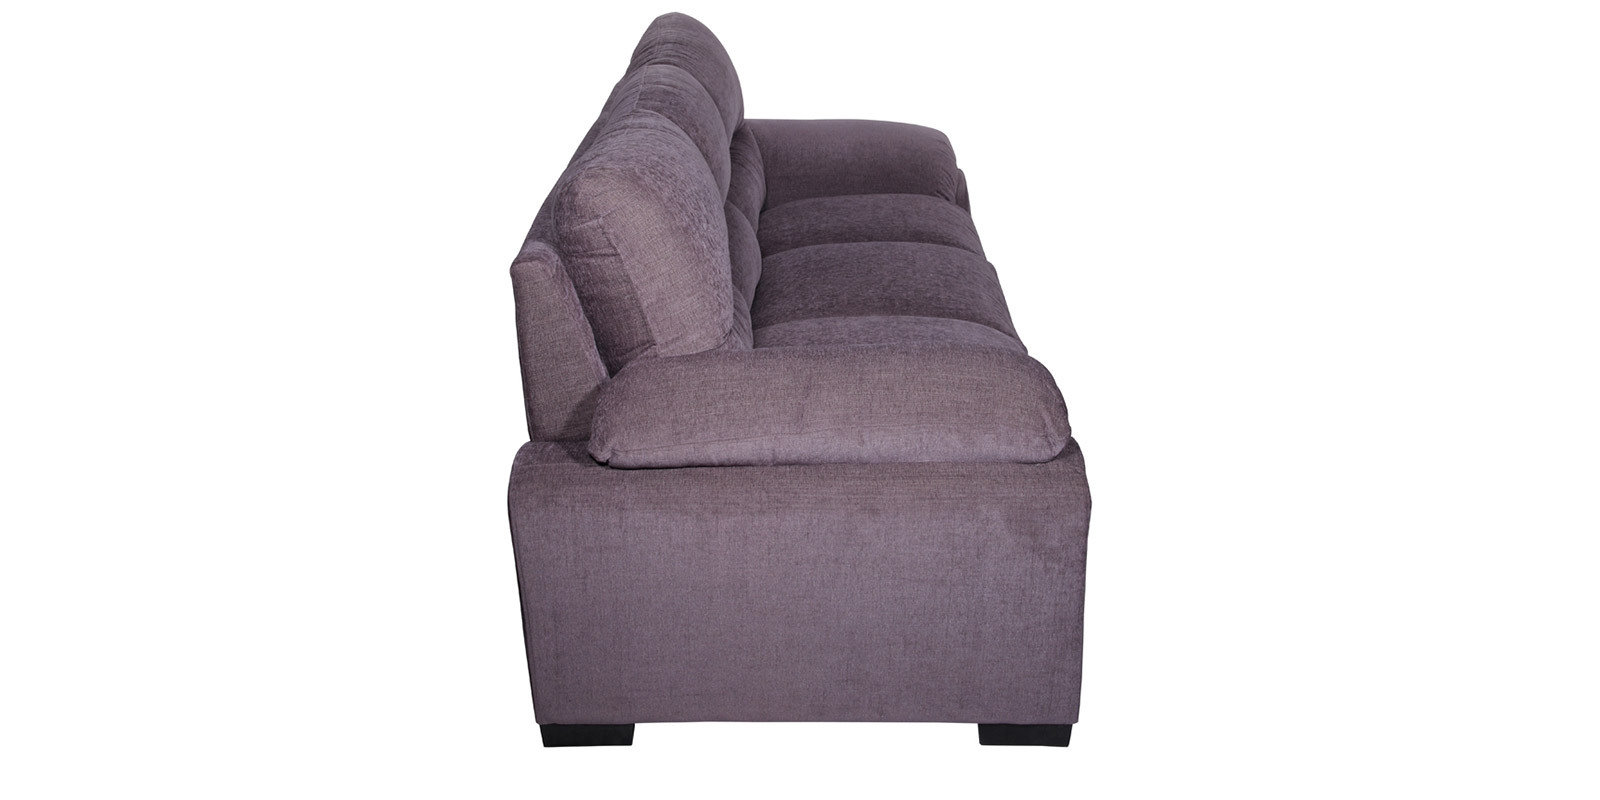Brass Three Seater Sofa in Dark Grey Colour by Furniture Mind: (489, 14, 1100, 743)
